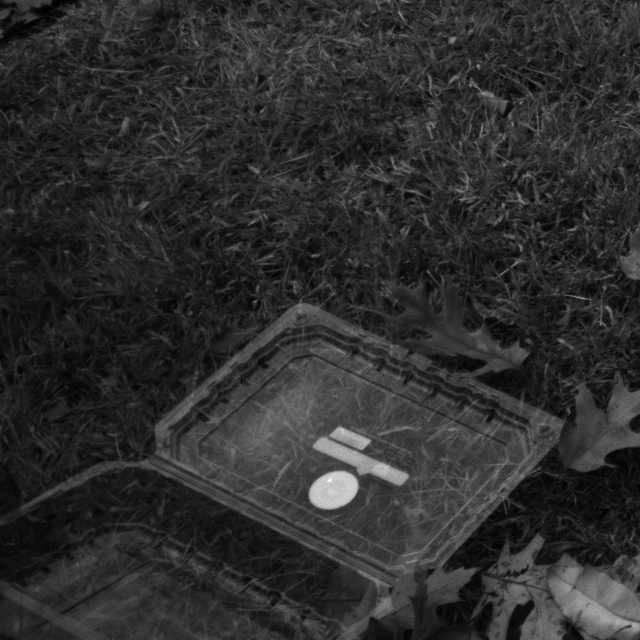container: (0, 294, 578, 640)
